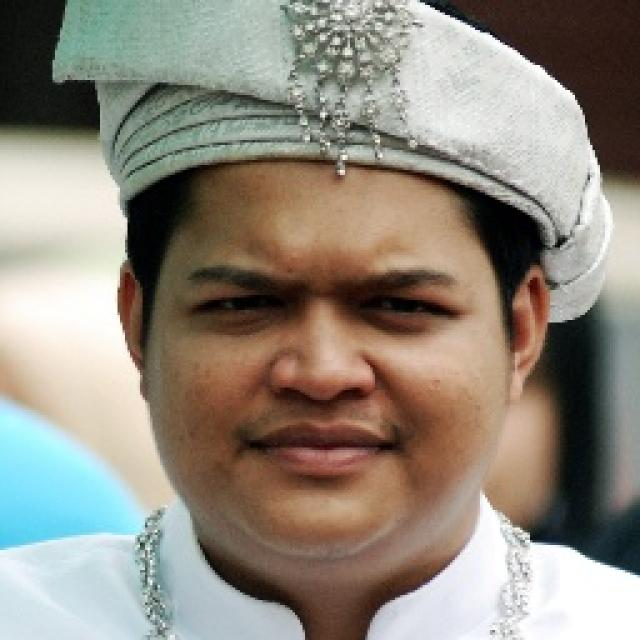earlobe: (135, 360, 152, 406), (508, 367, 526, 406)
eye: (362, 288, 462, 332), (198, 287, 288, 327)
nose: (272, 385, 378, 422)
wholeear: (509, 263, 552, 404), (114, 258, 153, 404)
